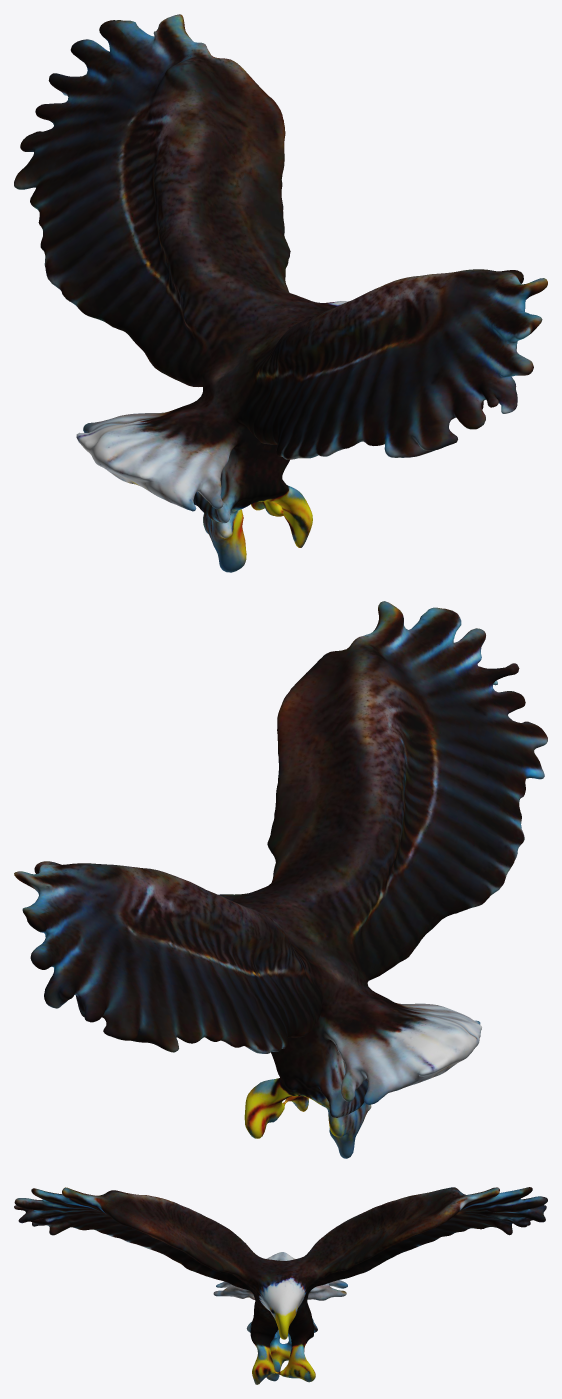
The model's file is 02bb6f25d65b_Incredibly_detailed.fbx.
The picture shows the model from 3 angles, top to bottom: view 1: azimuth 30°, elevation 25°; view 2: azimuth 150°, elevation 25°; view 3: azimuth 270°, elevation 25°; orthographic projection. The views are drawn at different scales.
Parts seen in each view (by area): view 1: high_poly; view 2: high_poly; view 3: high_poly.
Boxes of the visible parts, <box> form: high_poly: <box>14,14,547,572</box>; high_poly: <box>14,601,547,1158</box>; high_poly: <box>14,1187,547,1384</box>.
Size of the model in its own units: 39.86 by 47.84 by 100.
